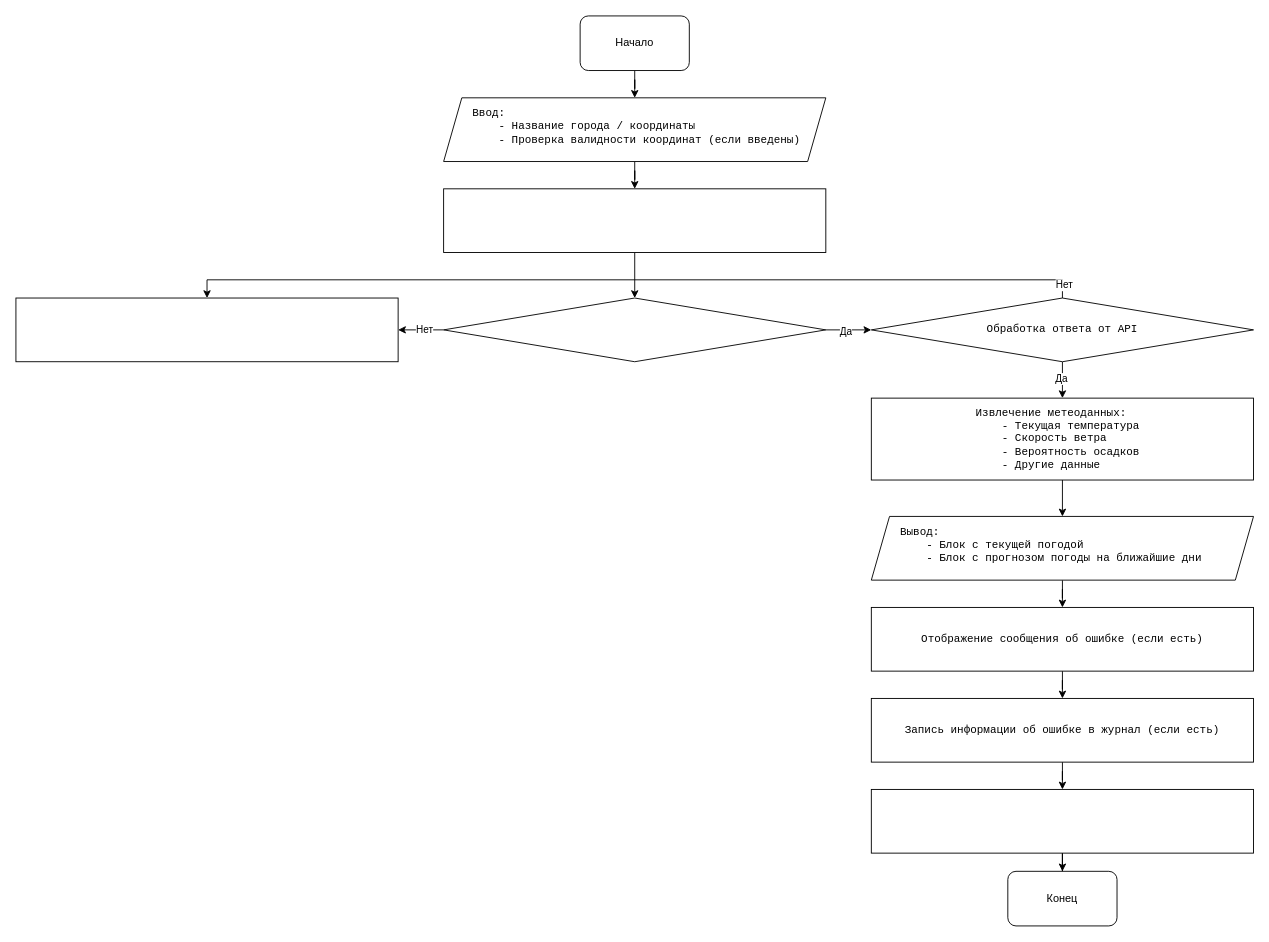
This 1269x942 diagram has some shape labels left out. The centre of each missing label's shape, as x and y in pixels:
Обновление данных о погоде через заданный интервал: the point at 1062,821
Отображение сообщения об ошибке: the point at 206,329
Отправка асинхронного запроса к API: the point at 634,329
Формирование URL-запроса к API OpenWeatherMap: the point at 634,220
